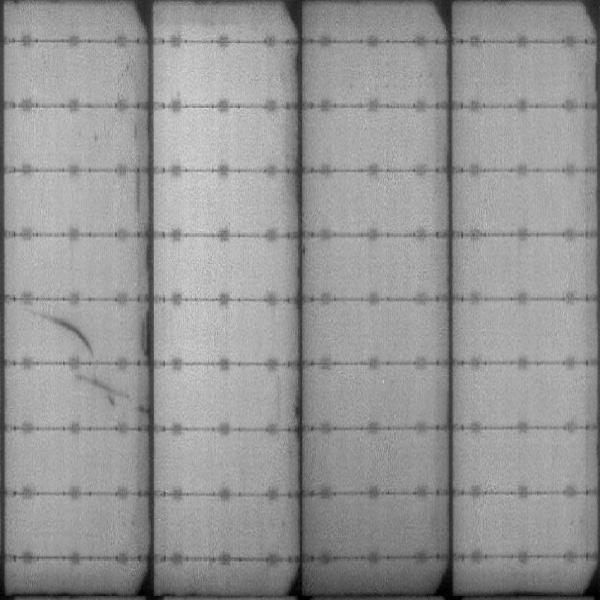scratch: (23, 301, 98, 354), (71, 371, 135, 404), (132, 172, 144, 217)
